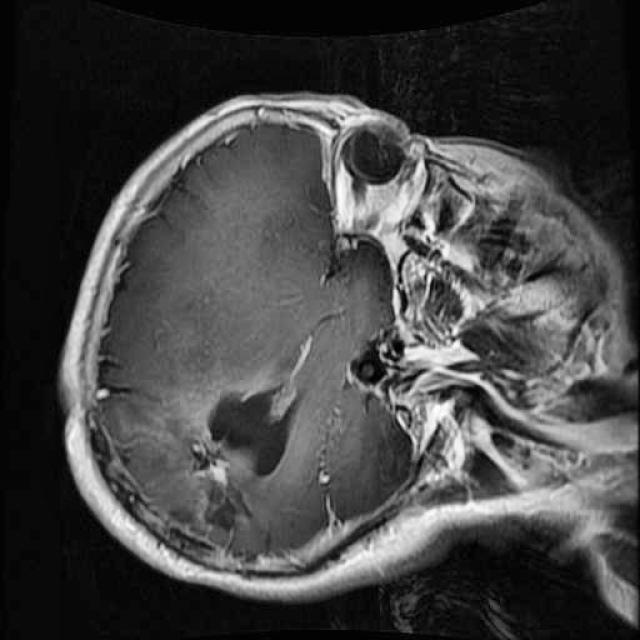Non-Tumor: (158, 319, 323, 560)
